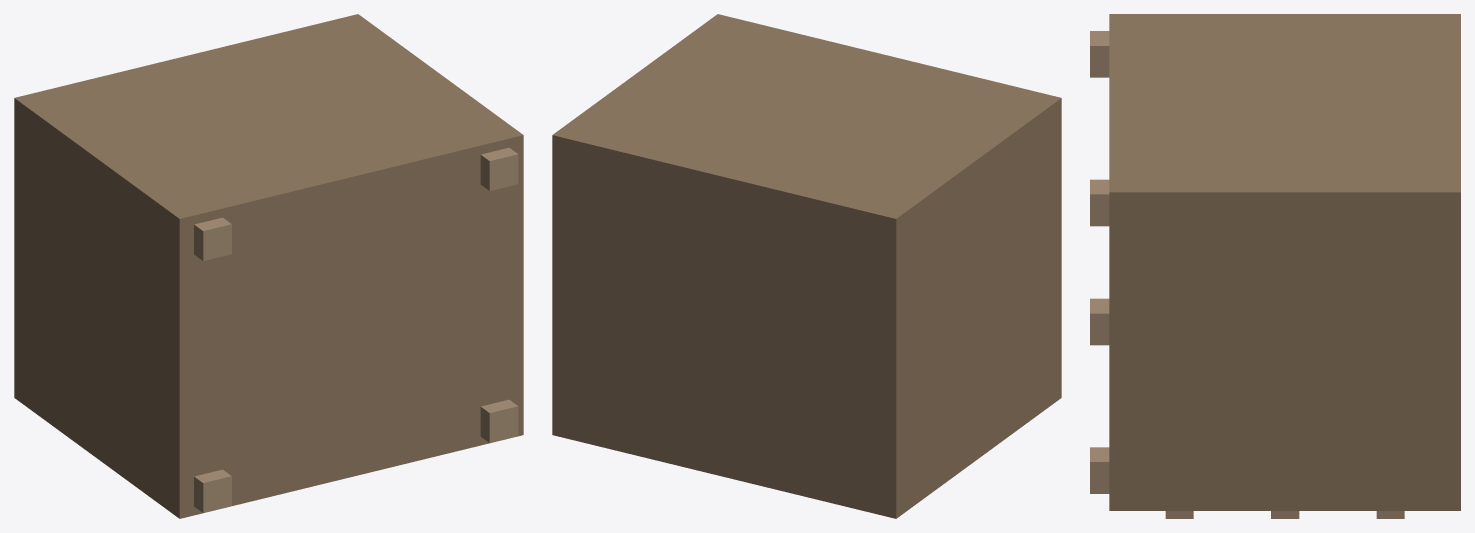
The model's file is crate.glb.
3 renders of one model, left to right at view 1: azimuth 30°, elevation 25°; view 2: azimuth 150°, elevation 25°; view 3: azimuth 270°, elevation 25°, orthographic. The views are drawn at different scales.
Parts seen in each view (by area): view 1: crate_0, crate_4, crate_3, crate_1, crate_2; view 2: crate_0; view 3: crate_0, crate_1, crate_4, crate_2, crate_3.
Part boxes in pixels (box(x1,y1,x2,y2)): crate_0: box(14, 14, 523, 518); crate_4: box(480, 147, 518, 190); crate_3: box(480, 399, 518, 442); crate_1: box(194, 469, 231, 512); crate_2: box(194, 217, 231, 260); crate_0: box(552, 14, 1061, 518); crate_0: box(1109, 14, 1460, 510); crate_1: box(1090, 298, 1109, 345); crate_4: box(1090, 179, 1109, 226); crate_2: box(1090, 31, 1109, 77); crate_3: box(1090, 447, 1109, 493).
Size of the model in its own units: 1.2 by 1.06 by 1.05.
